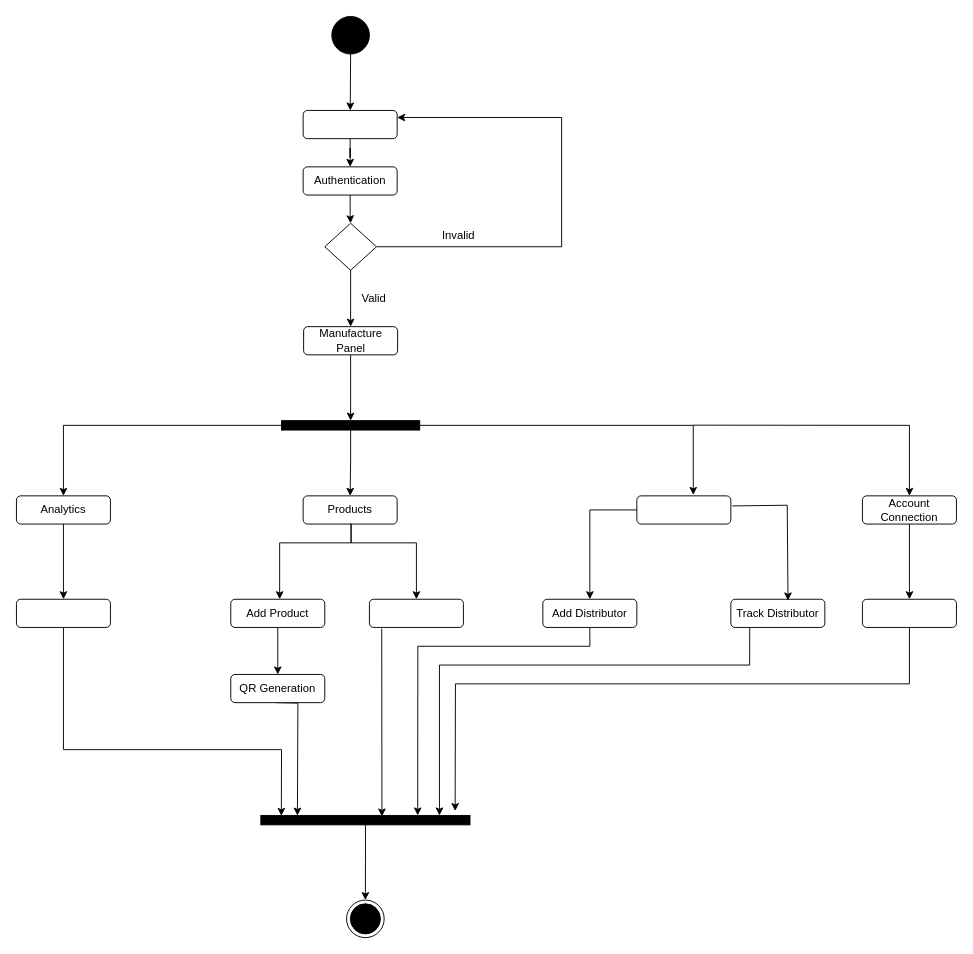
The diagram is 973 pixels wide and 954 high, and some of its shapes have lost their labels. Here are the shapes that lost their labels. From the top down, the box of each, then its label:
(302, 110, 397, 139): Connect to the Metamask
(636, 495, 731, 524): Distributor
(16, 598, 110, 627): Feed Back Information
(368, 598, 463, 627): Track Product
(862, 598, 956, 627): Check the Metamask wallet
